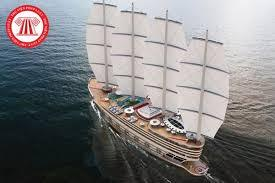Ship: (83, 2, 231, 178)
